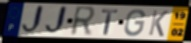G: (123, 9, 147, 38)
J: (20, 4, 46, 36), (44, 4, 69, 37)
K: (147, 9, 170, 38)
R: (69, 5, 98, 38)
T: (101, 8, 120, 36)
